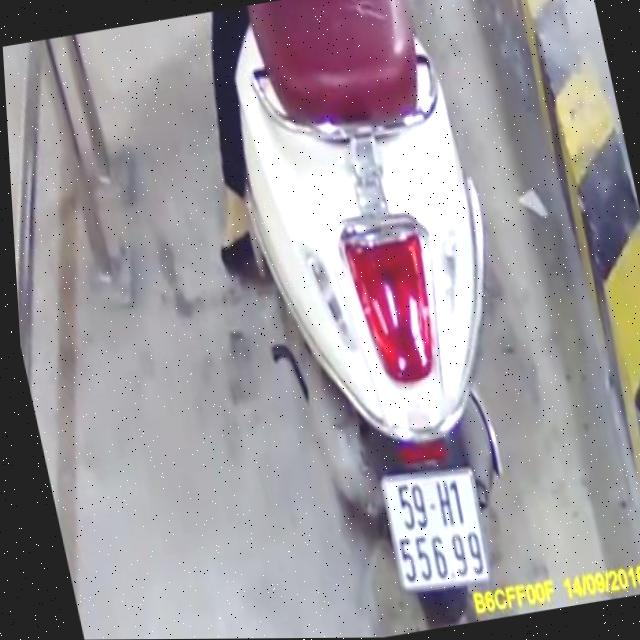motorcycle: (198, 0, 577, 639)
plate: (368, 459, 499, 601)
